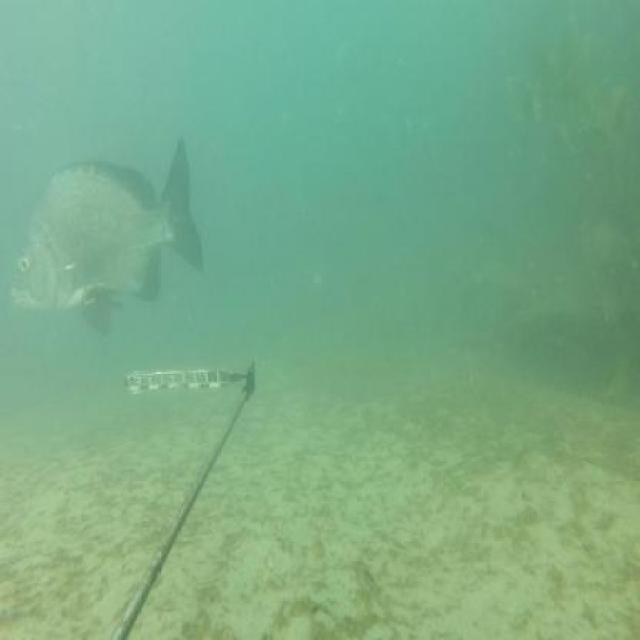acanthopagrus_palmaris: (10, 131, 205, 340)
